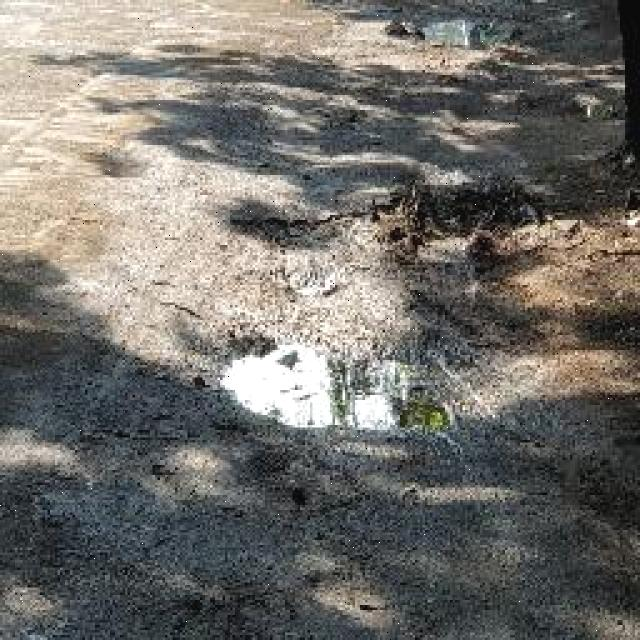stagnation: (204, 310, 468, 449)
